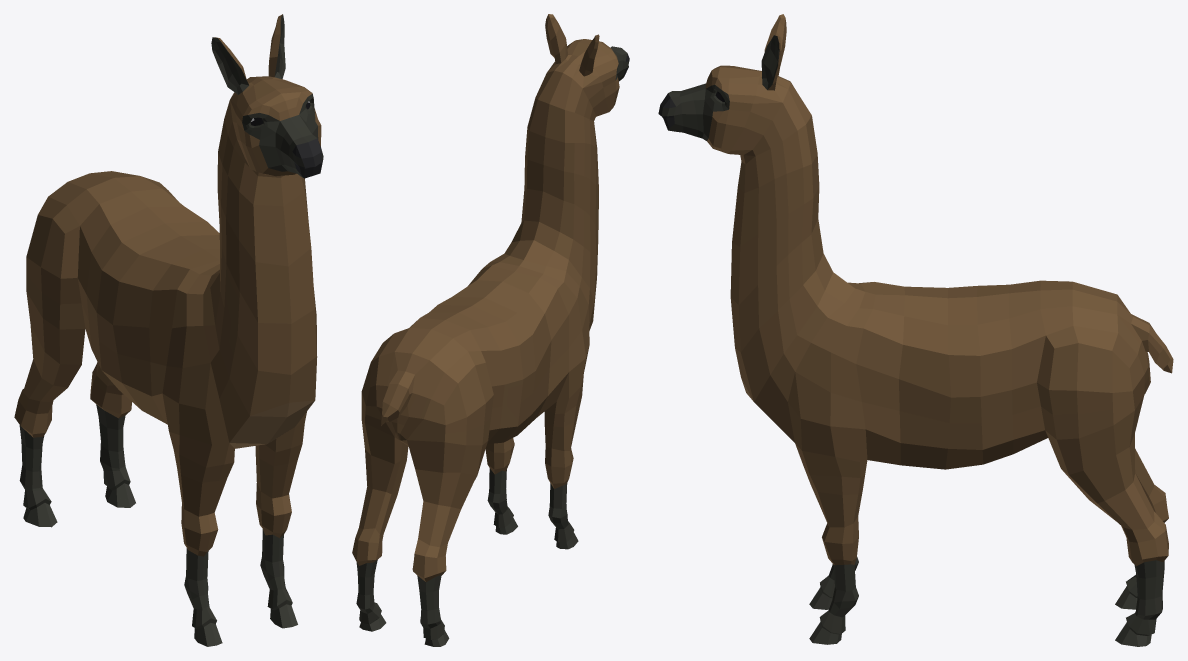
Rendered from Alpaca.glb.
3 views of the same model, side by side, from view 1: azimuth 30°, elevation 25°; view 2: azimuth 150°, elevation 25°; view 3: azimuth 270°, elevation 25° (orthographic). The views are drawn at different scales.
Parts seen in each view (by area): view 1: Alpaca_Cube; view 2: Alpaca_Cube; view 3: Alpaca_Cube.
Boxes of the visible parts, x1,y1,x2,y2 form: Alpaca_Cube: [14, 14, 323, 646]; Alpaca_Cube: [352, 14, 629, 646]; Alpaca_Cube: [658, 14, 1173, 646].
Size of the model in its own units: 1.27 by 5.43 by 4.28.
1 material, 1 textured.
